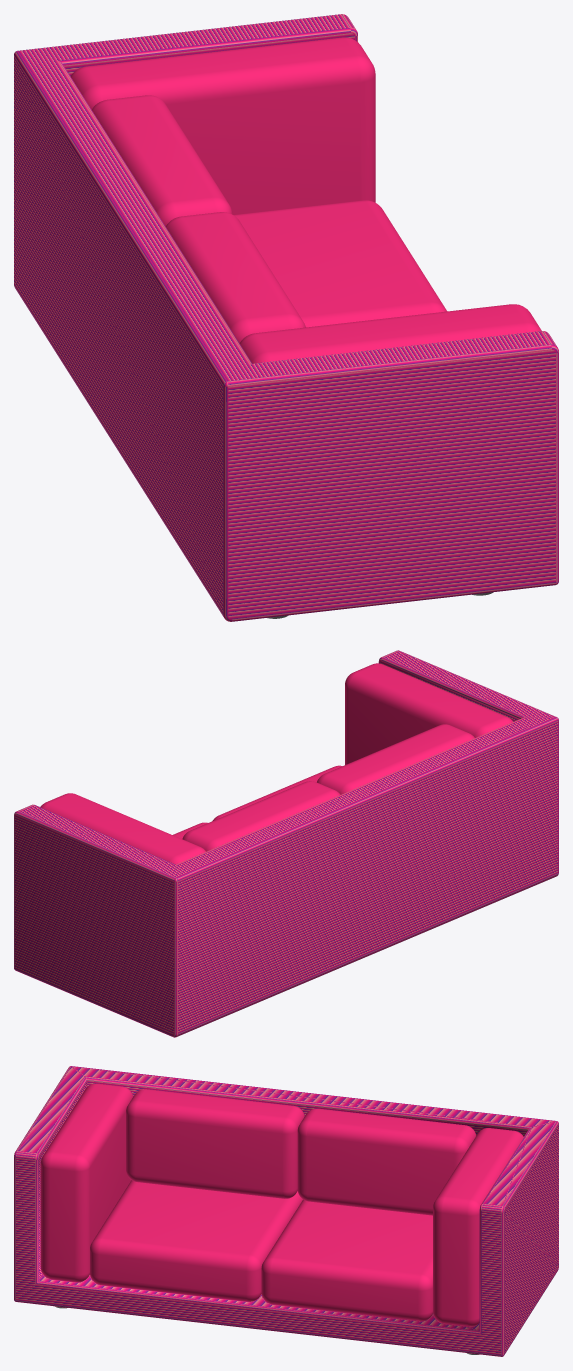
Rendered from Sillonsalma.obj.
3 views of the same model, one above another, from view 1: azimuth 30°, elevation 25°; view 2: azimuth 150°, elevation 25°; view 3: azimuth 270°, elevation 25° (orthographic). The views are drawn at different scales.
Visible parts, largest first — view 1: Sillon:Base, Sillon:Pillows; view 2: Sillon:Base, Sillon:Pillows; view 3: Sillon:Pillows, Sillon:Base.
Boxes of the visible parts, box(x1,y1,x2,y2) form: Sillon:Base: box(14, 14, 558, 621); Sillon:Pillows: box(70, 37, 541, 363); Sillon:Base: box(14, 650, 558, 1037); Sillon:Pillows: box(40, 663, 513, 864); Sillon:Pillows: box(40, 1083, 523, 1326); Sillon:Base: box(14, 1066, 558, 1356).
Size of the model in its own units: 52.53 by 27.95 by 84.54.
3 materials, 2 textured.
